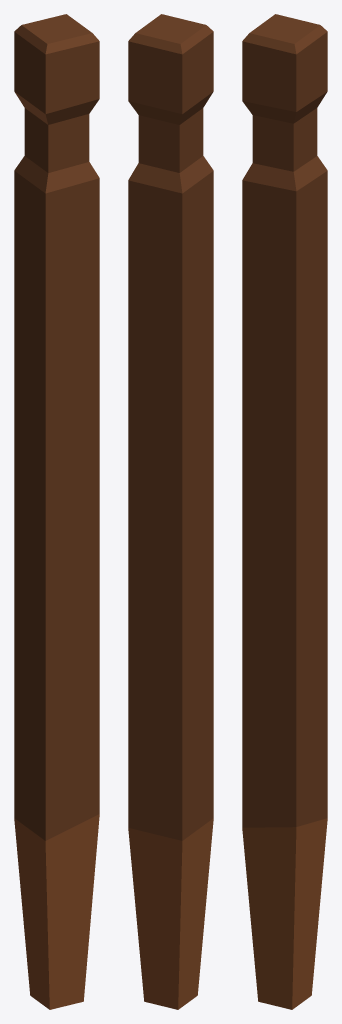
The model's file is Pole_1.fbx.
3 renders of one model, left to right at view 1: azimuth 30°, elevation 25°; view 2: azimuth 150°, elevation 25°; view 3: azimuth 330°, elevation 25°, orthographic.
Parts seen in each view (by area): view 1: Pole_1; view 2: Pole_1; view 3: Pole_1.
Part boxes in pixels (box(x1,y1,x2,y2)): Pole_1: box(14, 14, 99, 1009); Pole_1: box(128, 14, 213, 1009); Pole_1: box(242, 14, 327, 1009).
Size of the model in its own units: 7.71 by 132 by 7.71.
